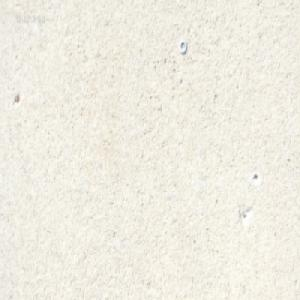Washer: (179, 38, 187, 53)
